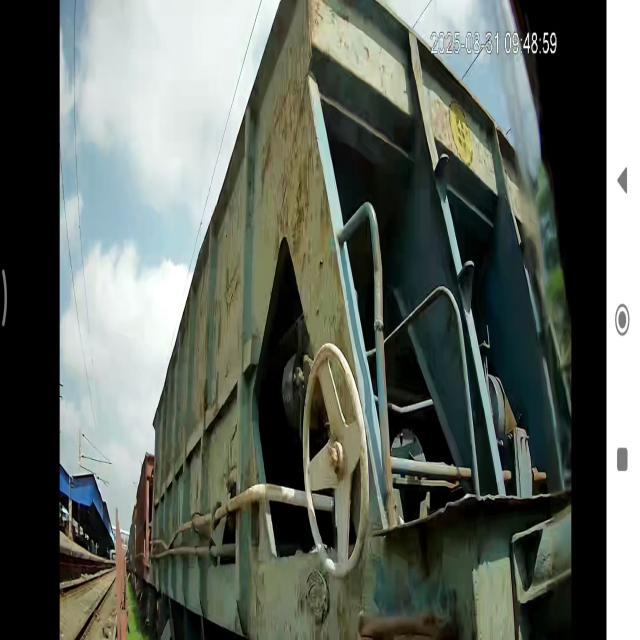coach: (156, 13, 337, 640)
